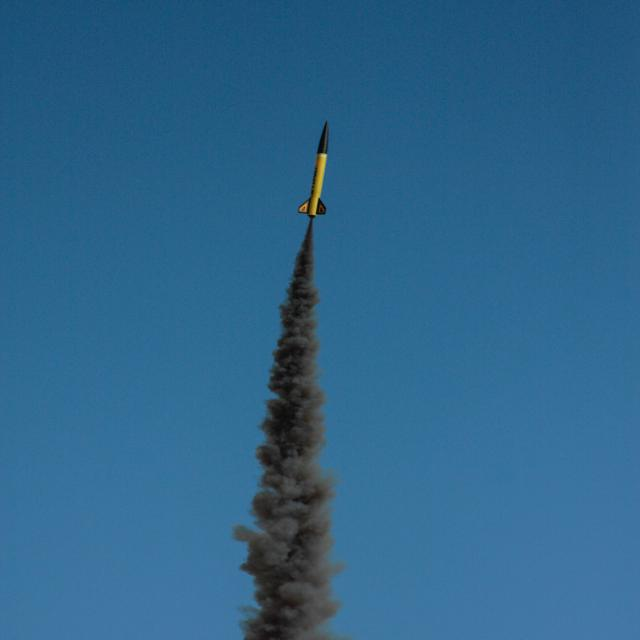Rocket: (298, 119, 330, 217)
